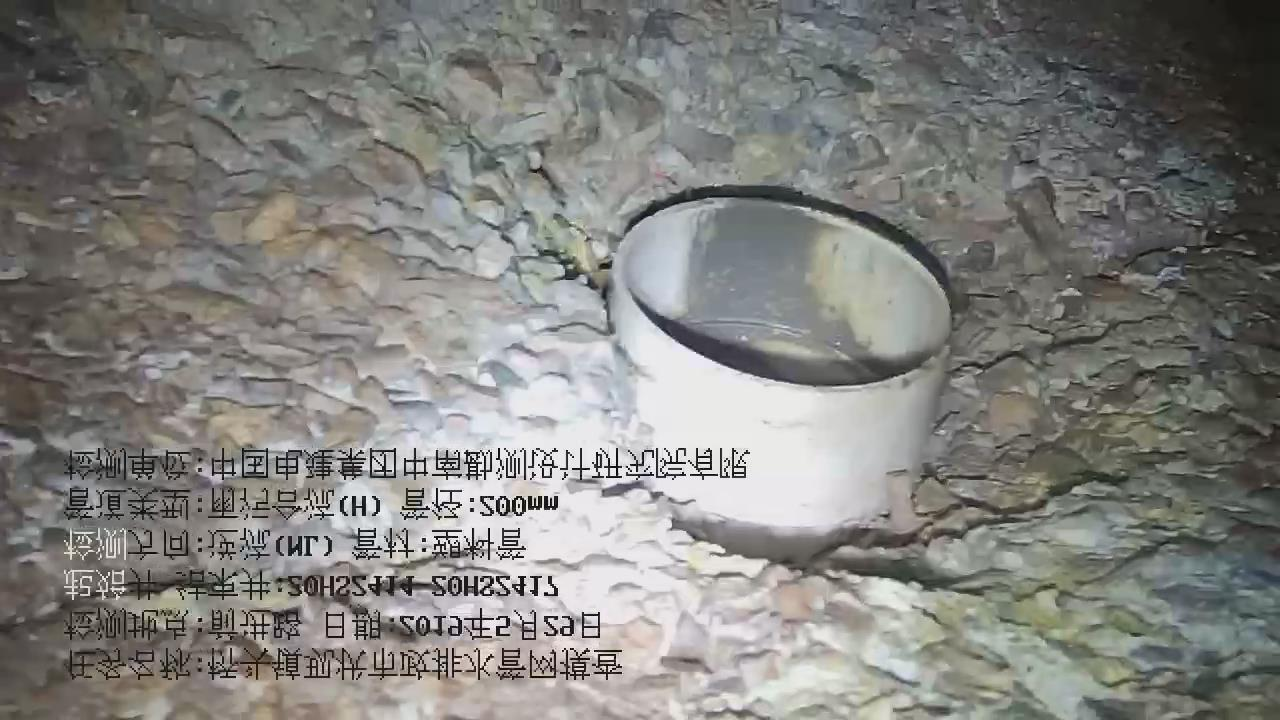ZGAJ: (607, 191, 952, 536)
